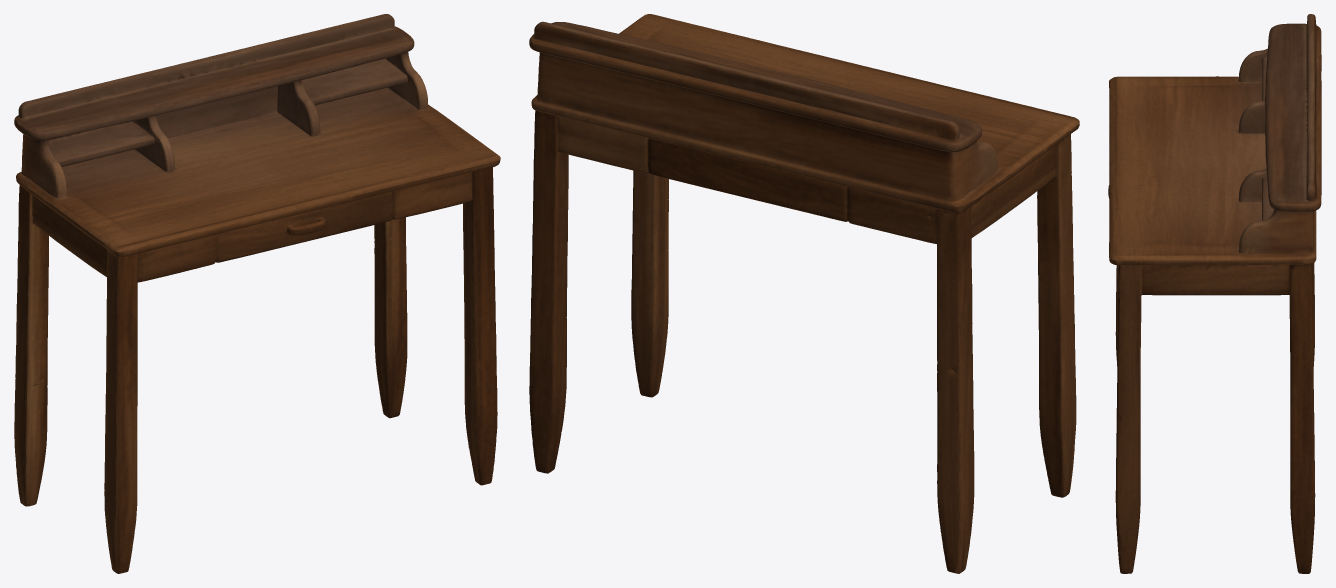
Rendered from item_28978e6c.glb.
The picture shows the model from 3 angles, left to right: view 1: azimuth 30°, elevation 25°; view 2: azimuth 150°, elevation 25°; view 3: azimuth 270°, elevation 25°; orthographic projection. The views are drawn at different scales.
Parts seen in each view (by area): view 1: world; view 2: world; view 3: world.
Part boxes in pixels (x1,y1,x2,y2): world: (14, 14, 500, 573); world: (529, 14, 1079, 573); world: (1108, 14, 1321, 573).
Bounding box in the file's own units: 1.1 × 1.08 × 0.5427.
Materials: 1 (1 with a texture image).
